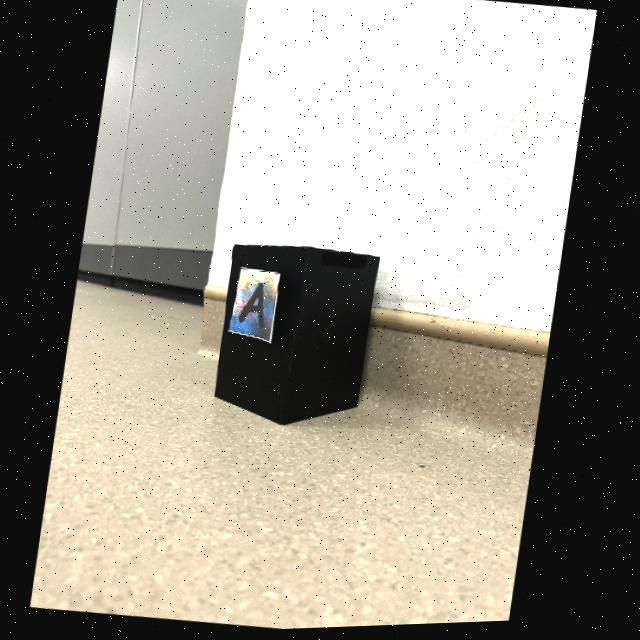A: (240, 285, 265, 329)
